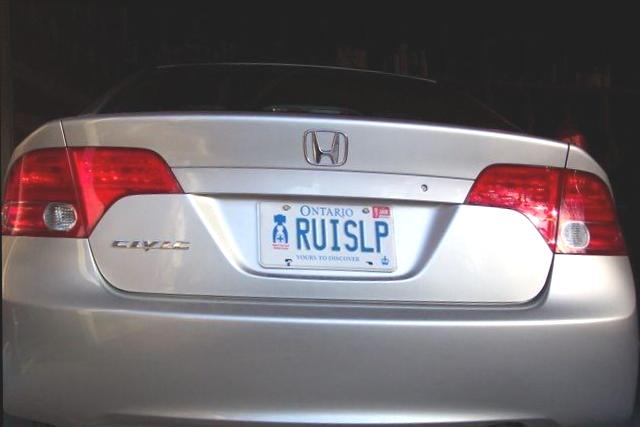License_Plate: (250, 192, 403, 288)
